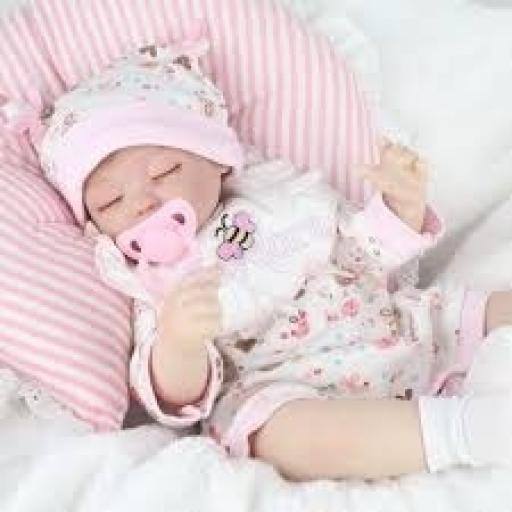sleeping: (2, 25, 510, 485)
